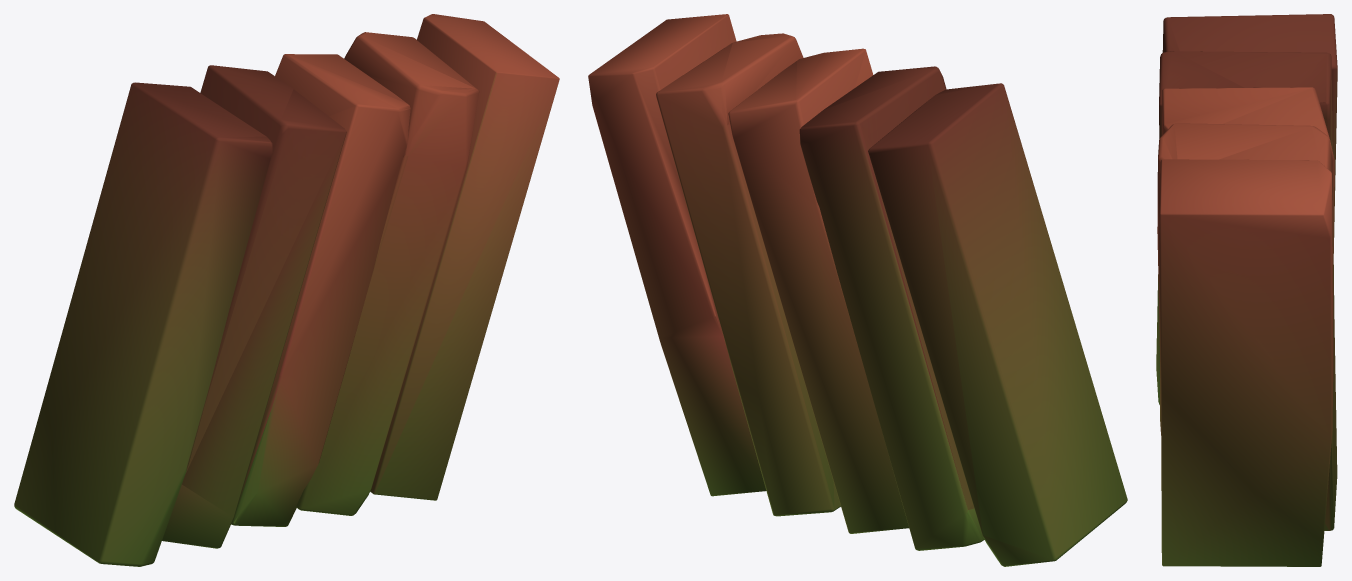
Rendered from mire_brick_edging_lod2.glb.
3 views of the same model, side by side, from view 1: azimuth 30°, elevation 25°; view 2: azimuth 150°, elevation 25°; view 3: azimuth 270°, elevation 25° (orthographic). The views are drawn at different scales.
Parts seen in each view (by area): view 1: mire_brick_edging.001; view 2: mire_brick_edging.001; view 3: mire_brick_edging.001.
Boxes of the visible parts, box(x1,y1,x2,y2) form: mire_brick_edging.001: box(14, 14, 559, 566); mire_brick_edging.001: box(588, 14, 1127, 566); mire_brick_edging.001: box(1156, 14, 1337, 566).
Size of the model in its own units: 16.03 by 13.51 by 5.07.
